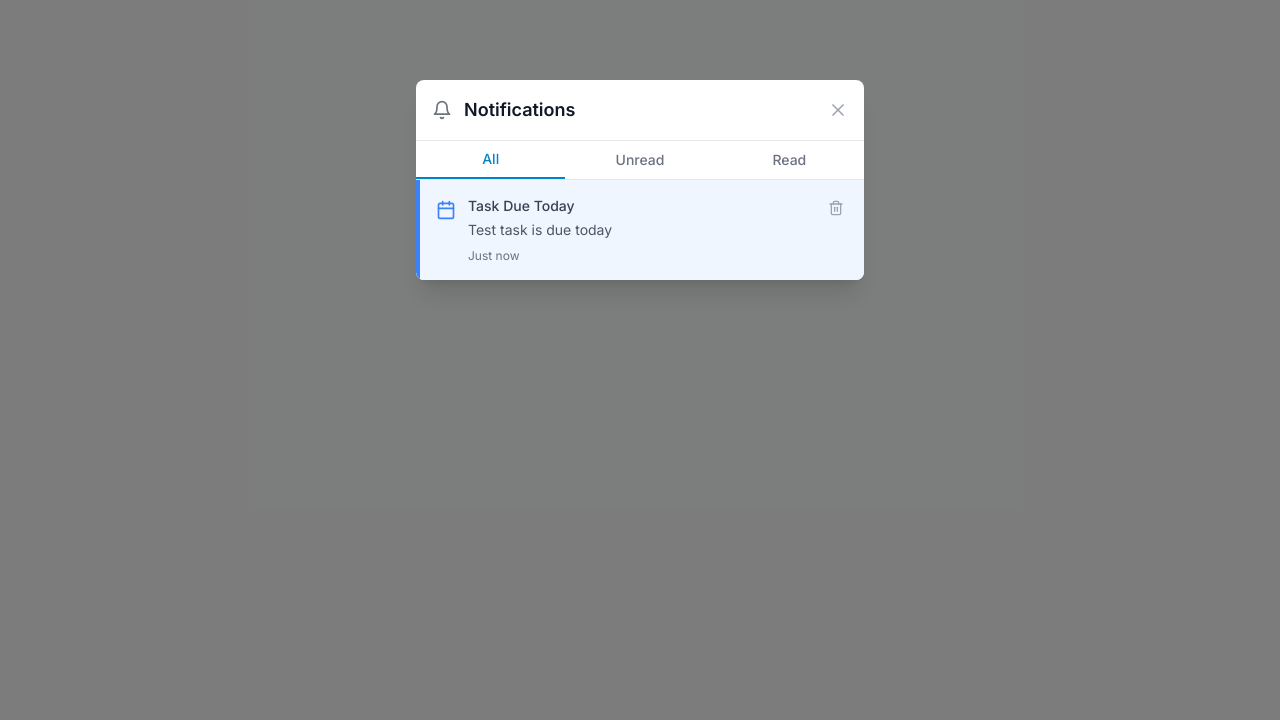
Test: NotificationPanel › shows empty state for filtered notifications
Click the button "unread": [640, 160] box 565,141 -> 715,179
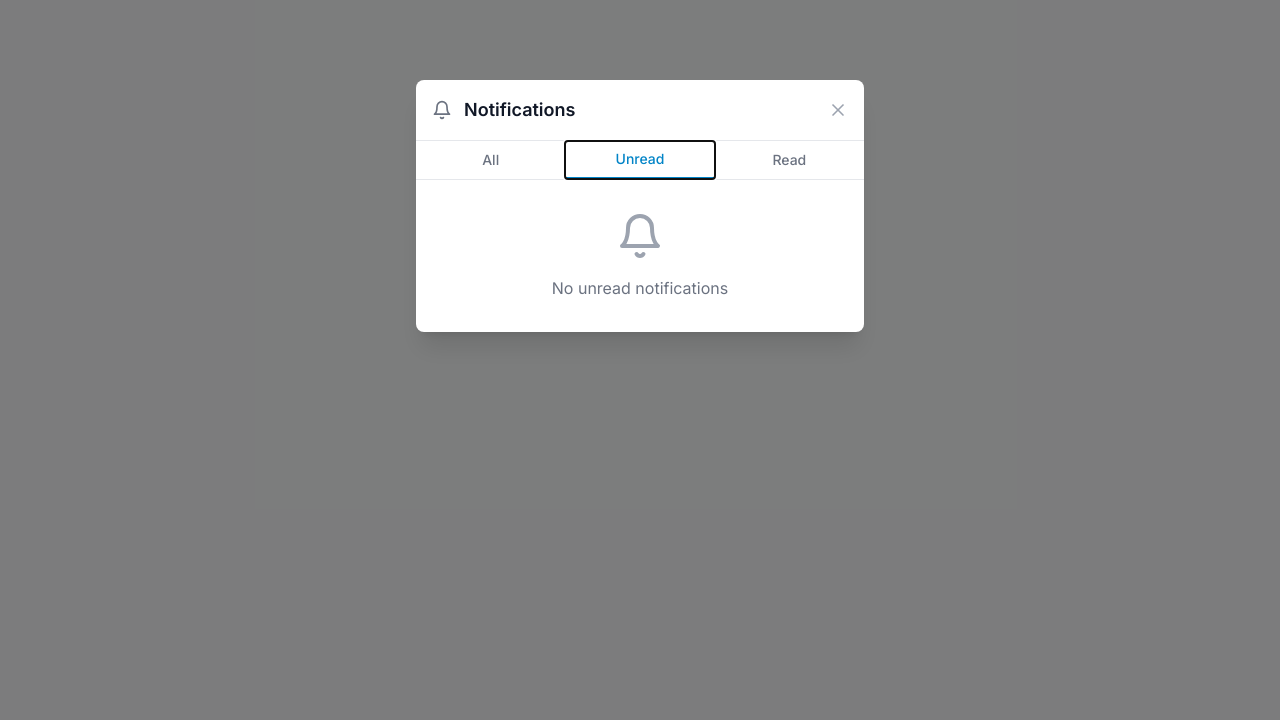
Now the text "No unread notifications" is shown, box 552,278 -> 728,298
